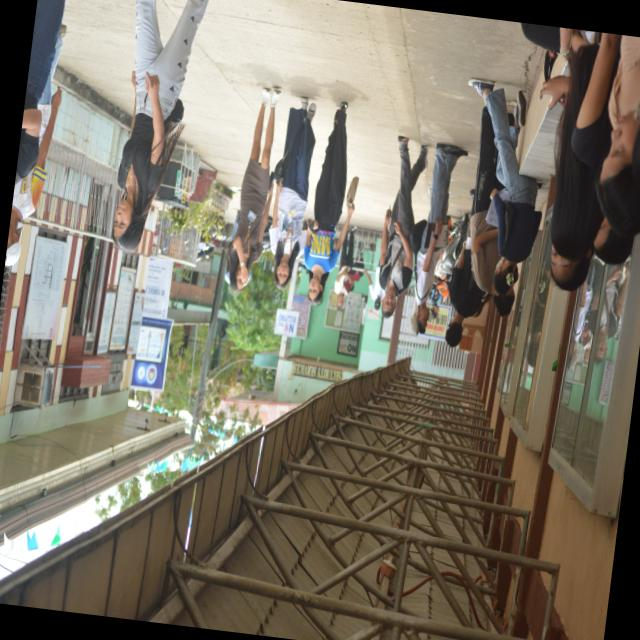person: (112, 0, 208, 251), (469, 77, 540, 293), (5, 25, 65, 265), (409, 142, 466, 332), (227, 87, 279, 291), (303, 101, 353, 303), (469, 106, 514, 315), (269, 96, 315, 288), (379, 136, 427, 317), (16, 0, 64, 180), (596, 35, 639, 234), (588, 264, 628, 364), (593, 217, 633, 263), (334, 226, 355, 307), (632, 119, 639, 184)
